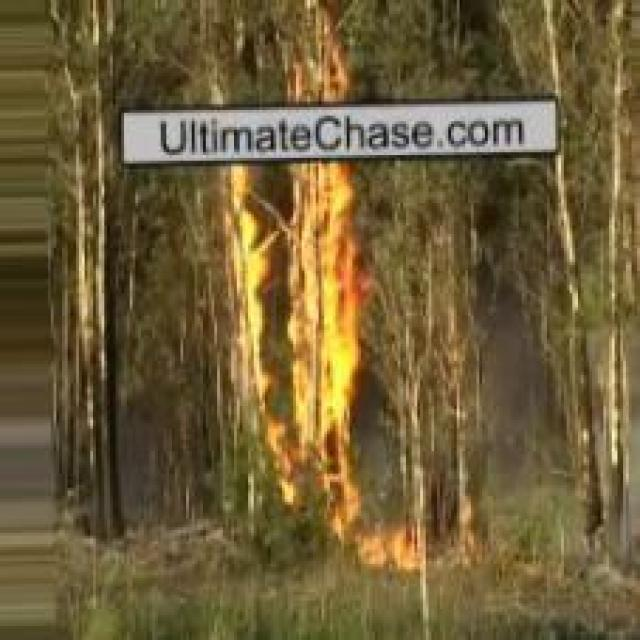fire: (212, 8, 438, 575)
